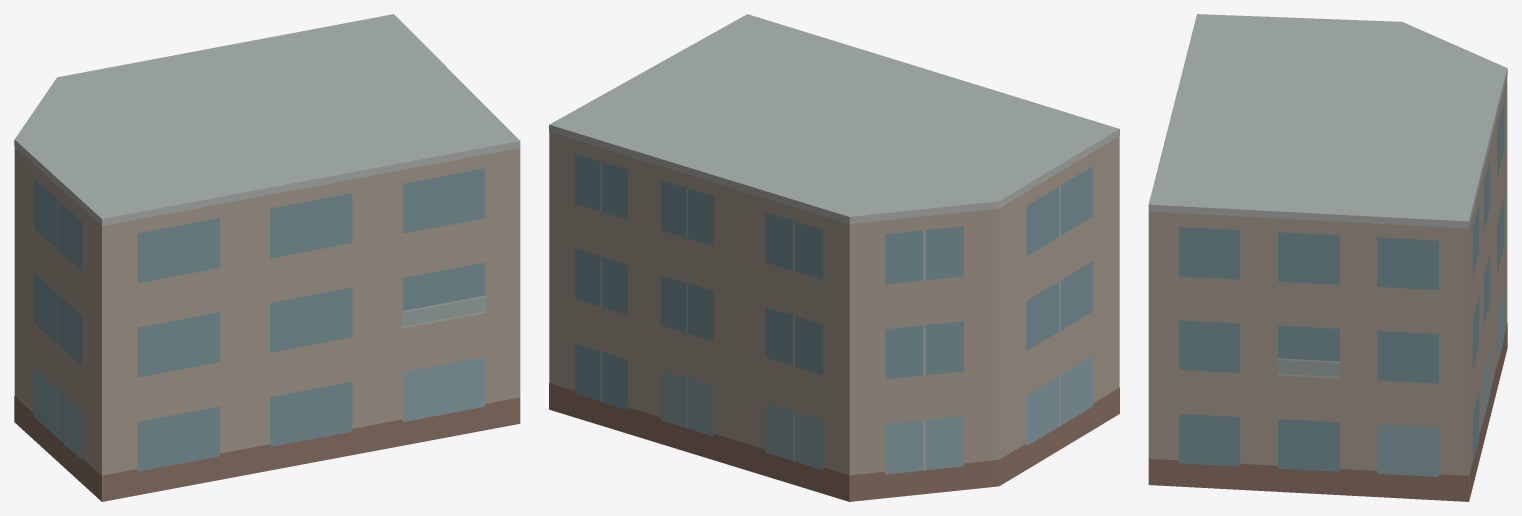
Rendered from survey-upis-32566333.glb.
3 views of the same model, side by side, from view 1: azimuth 30°, elevation 25°; view 2: azimuth 150°, elevation 25°; view 3: azimuth 270°, elevation 25° (orthographic).
Visible parts, largest first — view 1: survey-upis-32566333.tmp; view 2: survey-upis-32566333.tmp; view 3: survey-upis-32566333.tmp.
Boxes of the visible parts, bbox=[...] form: survey-upis-32566333.tmp: bbox=[14, 14, 520, 501]; survey-upis-32566333.tmp: bbox=[549, 14, 1119, 501]; survey-upis-32566333.tmp: bbox=[1148, 14, 1507, 501].
Bounding box in the file's own units: 15.41 × 9.7 × 11.27.
